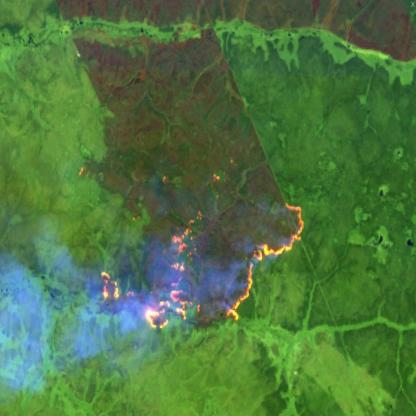fire: (98, 196, 307, 330)
